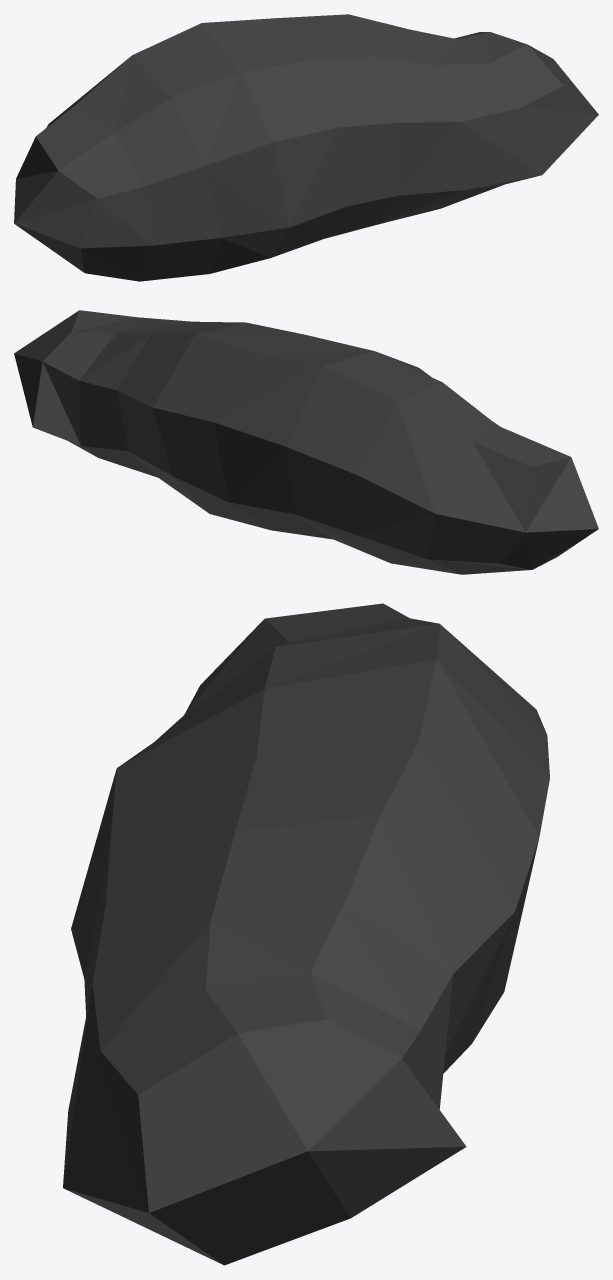
File: LHL_navicular_bone.glb
The picture shows the model from 3 angles, top to bottom: view 1: azimuth 30°, elevation 25°; view 2: azimuth 150°, elevation 25°; view 3: azimuth 270°, elevation 25°; orthographic projection. The views are drawn at different scales.
Visible parts, largest first — view 1: LHL_navicular_bone; view 2: LHL_navicular_bone; view 3: LHL_navicular_bone.
Part boxes in pixels (bbox=[...]): LHL_navicular_bone: bbox=[14, 14, 598, 281]; LHL_navicular_bone: bbox=[14, 310, 598, 574]; LHL_navicular_bone: bbox=[63, 603, 549, 1265].
Size of the model in its own units: 4.88 by 1.66 by 1.88.
1 material, 1 textured.
